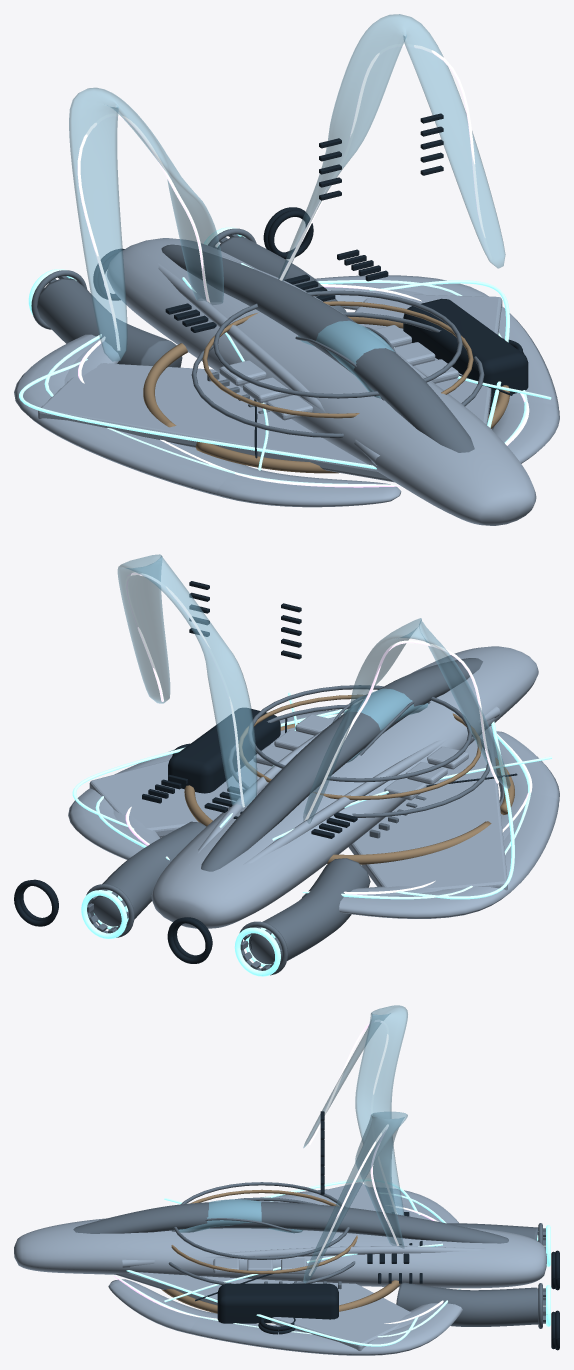
The model's file is tem-refined-fleet-v21.glb.
3 views of the same model, one above another, from view 1: azimuth 30°, elevation 25°; view 2: azimuth 150°, elevation 25°; view 3: azimuth 270°, elevation 25° (orthographic). The views are drawn at different scales.
Visible parts, largest first — view 1: SHIP_0_V21_FLEET_PEARL — multilayer lunar ceramic, SHIP_2_V21_FLEET_GLASS — sapphire pressure canopy, SHIP_0_V21_FLEET_TITANIUM — restrained cold machining, SHIP_3_V21_FLEET_PEARL — multilayer lunar ceramic, SHIP_3_V21_FLEET_PRESSURE — recessed engine chamber, SHIP_1_V21_FLEET_PEARL — multilayer lunar ceramic, SHIP_1_V21_FLEET_CHAMPAGNE — precision fittings, SHIP_0, SHIP_1_V21_FLEET_TITANIUM — restrained cold machining, SHIP_2, SHIP_0_V21_FLEET_PRESSURE — recessed engine chamber, SHIP_0_V21_FLEET_GLASS — sapphire pressure canopy (+2 smaller); view 2: SHIP_0_V21_FLEET_PEARL — multilayer lunar ceramic, SHIP_0_V21_FLEET_TITANIUM — restrained cold machining, SHIP_2_V21_FLEET_GLASS — sapphire pressure canopy, SHIP_3_V21_FLEET_PEARL — multilayer lunar ceramic, SHIP_3_V21_FLEET_PRESSURE — recessed engine chamber, SHIP_0, SHIP_1_V21_FLEET_CHAMPAGNE — precision fittings, SHIP_1_V21_FLEET_TITANIUM — restrained cold machining, SHIP_2, SHIP_0_V21_FLEET_PRESSURE — recessed engine chamber, SHIP_1_V21_FLEET_PEARL — multilayer lunar ceramic, SHIP_0_V21_FLEET_GLASS — sapphire pressure canopy (+2 smaller); view 3: SHIP_0_V21_FLEET_PEARL — multilayer lunar ceramic, SHIP_0_V21_FLEET_TITANIUM — restrained cold machining, SHIP_3_V21_FLEET_PEARL — multilayer lunar ceramic, SHIP_2_V21_FLEET_GLASS — sapphire pressure canopy, SHIP_3_V21_FLEET_PRESSURE — recessed engine chamber, SHIP_0, SHIP_1_V21_FLEET_CHAMPAGNE — precision fittings, SHIP_1_V21_FLEET_TITANIUM — restrained cold machining, SHIP_1_V21_FLEET_PEARL — multilayer lunar ceramic, SHIP_2, SHIP_0_V21_FLEET_GLASS — sapphire pressure canopy, SHIP_1_V21_FLEET_GLASS — sapphire pressure canopy (+2 smaller).
Boxes of the visible parts, x1=… form: SHIP_0_V21_FLEET_PEARL — multilayer lunar ceramic: x1=14, y1=238, x2=558, y2=525; SHIP_2_V21_FLEET_GLASS — sapphire pressure canopy: x1=69, y1=14, x2=505, y2=361; SHIP_0_V21_FLEET_TITANIUM — restrained cold machining: x1=31, y1=228, x2=474, y2=452; SHIP_3_V21_FLEET_PEARL — multilayer lunar ceramic: x1=68, y1=238, x2=559, y2=525; SHIP_3_V21_FLEET_PRESSURE — recessed engine chamber: x1=93, y1=207, x2=528, y2=414; SHIP_1_V21_FLEET_PEARL — multilayer lunar ceramic: x1=64, y1=286, x2=559, y2=507; SHIP_1_V21_FLEET_CHAMPAGNE — precision fittings: x1=143, y1=301, x2=509, y2=473; SHIP_0: x1=19, y1=227, x2=551, y2=484; SHIP_1_V21_FLEET_TITANIUM — restrained cold machining: x1=191, y1=290, x2=484, y2=437; SHIP_2: x1=77, y1=43, x2=491, y2=350; SHIP_0_V21_FLEET_PRESSURE — recessed engine chamber: x1=165, y1=113, x2=524, y2=458; SHIP_0_V21_FLEET_GLASS — sapphire pressure canopy: x1=298, y1=321, x2=394, y2=398; SHIP_0_V21_FLEET_PEARL — multilayer lunar ceramic: x1=68, y1=646, x2=558, y2=928; SHIP_0_V21_FLEET_TITANIUM — restrained cold machining: x1=86, y1=658, x2=482, y2=975; SHIP_2_V21_FLEET_GLASS — sapphire pressure canopy: x1=117, y1=554, x2=510, y2=823; SHIP_3_V21_FLEET_PEARL — multilayer lunar ceramic: x1=118, y1=646, x2=557, y2=927; SHIP_3_V21_FLEET_PRESSURE — recessed engine chamber: x1=14, y1=708, x2=280, y2=963; SHIP_0: x1=72, y1=692, x2=551, y2=976; SHIP_1_V21_FLEET_CHAMPAGNE — precision fittings: x1=184, y1=695, x2=514, y2=864; SHIP_1_V21_FLEET_TITANIUM — restrained cold machining: x1=228, y1=685, x2=491, y2=817; SHIP_2: x1=125, y1=572, x2=498, y2=820; SHIP_0_V21_FLEET_PRESSURE — recessed engine chamber: x1=171, y1=581, x2=517, y2=948; SHIP_1_V21_FLEET_PEARL — multilayer lunar ceramic: x1=113, y1=710, x2=559, y2=897; SHIP_0_V21_FLEET_GLASS — sapphire pressure canopy: x1=343, y1=689, x2=427, y2=762; SHIP_0_V21_FLEET_PEARL — multilayer lunar ceramic: x1=22, y1=1182, x2=546, y2=1355; SHIP_0_V21_FLEET_TITANIUM — restrained cold machining: x1=73, y1=1201, x2=545, y2=1328; SHIP_3_V21_FLEET_PEARL — multilayer lunar ceramic: x1=14, y1=1203, x2=546, y2=1333; SHIP_2_V21_FLEET_GLASS — sapphire pressure canopy: x1=303, y1=1005, x2=407, y2=1283; SHIP_3_V21_FLEET_PRESSURE — recessed engine chamber: x1=217, y1=1241, x2=559, y2=1350; SHIP_0: x1=117, y1=1179, x2=550, y2=1346; SHIP_1_V21_FLEET_CHAMPAGNE — precision fittings: x1=161, y1=1189, x2=400, y2=1313; SHIP_1_V21_FLEET_TITANIUM — restrained cold machining: x1=168, y1=1182, x2=355, y2=1284; SHIP_1_V21_FLEET_PEARL — multilayer lunar ceramic: x1=108, y1=1202, x2=438, y2=1333; SHIP_2: x1=308, y1=1020, x2=399, y2=1275; SHIP_0_V21_FLEET_GLASS — sapphire pressure canopy: x1=179, y1=1199, x2=302, y2=1232; SHIP_1_V21_FLEET_GLASS — sapphire pressure canopy: x1=179, y1=1199, x2=302, y2=1232.
Size of the model in its own units: 4.55 by 3.02 by 6.31.
